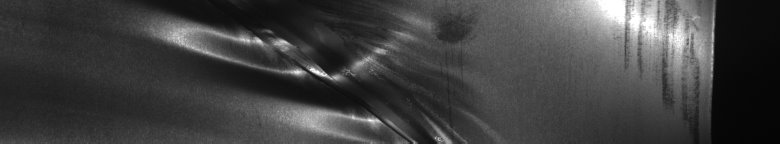ke: (154, 16, 459, 136)
